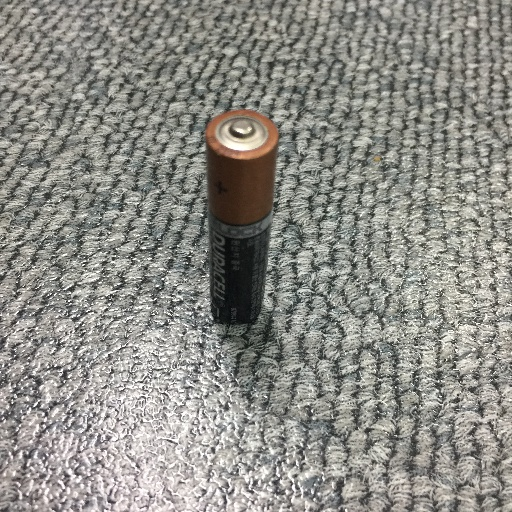Battery_0: (189, 96, 291, 338)
